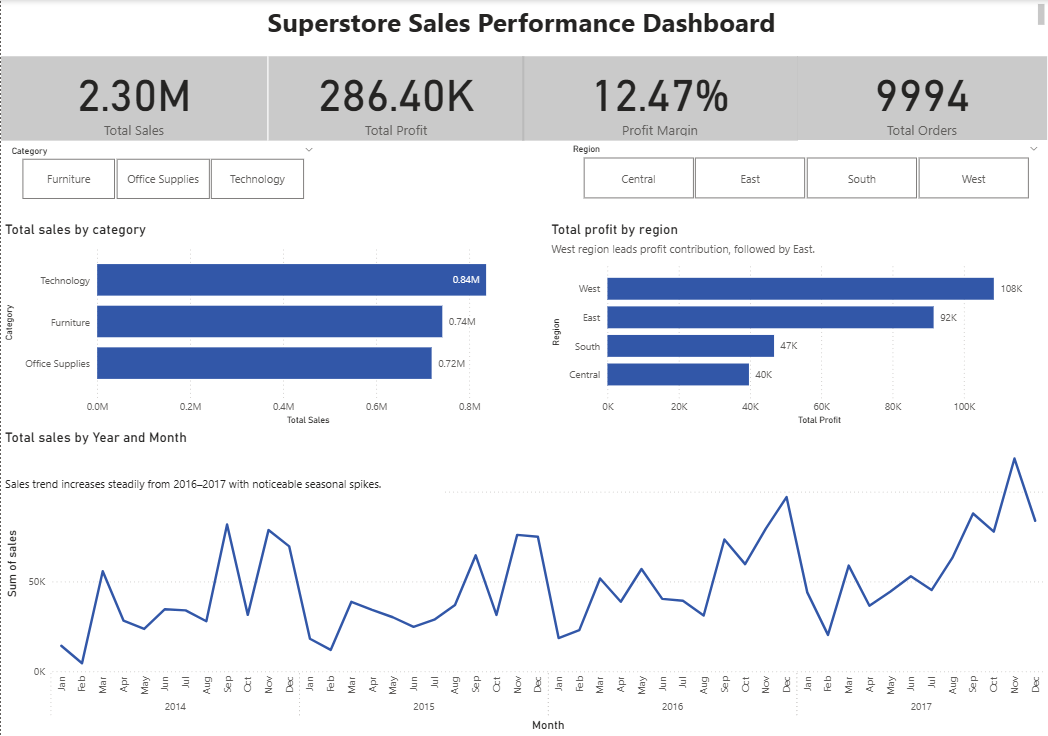

The dashboard page shown, as its layout file describes it:
{"tool":"powerbi","page":{"name":"Sales Overview","canvas":[1280,900],"ordinal":0},"visuals":[{"type":"card","fields":{"Values":["Sum(superstore_db superstore_clean.profit)"]},"box":[327.1,68.6,312.9,102.9],"z":0},{"type":"card","fields":{"Values":["Sum(superstore_db superstore_clean.sales)"]},"box":[0,68.6,325.7,102.9],"z":1000},{"type":"card","fields":{"Values":["CountNonNull(superstore_db superstore_clean.order_id)"]},"box":[974.3,68.6,305.7,102.9],"z":2000},{"type":"clusteredBarChart","title":"Total sales by category","fields":{"Category":["superstore_db superstore_clean.category"],"Y":["Sum(superstore_db superstore_clean.sales)"]},"box":[0,270,652.9,254.3],"z":3000},{"type":"clusteredBarChart","title":"Total profit by region","fields":{"Category":["superstore_db superstore_clean.region"],"Y":["Sum(superstore_db superstore_clean.profit)"]},"box":[668.6,270,611.4,254.3],"z":4000},{"type":"lineChart","title":"Total sales by Year and Month","fields":{"Y":["Sum(superstore_db superstore_clean.sales)"],"Category":["superstore_db superstore_clean.Year","superstore_db superstore_clean.Month"]},"box":[0,524.3,1280,375.7],"z":5000},{"type":"slicer","fields":{"Values":["superstore_db superstore_clean.region"]},"box":[685.7,171.4,594.3,78.6],"z":6000},{"type":"slicer","fields":{"Values":["superstore_db superstore_clean.category"]},"box":[0,172.9,394.3,77.1],"z":7000},{"type":"textbox","box":[0,0,1280.9,48.9],"z":8000},{"type":"card","fields":{"Values":["superstore_db superstore_clean.Profit Margin"]},"box":[637.1,68.6,337.1,102.9],"z":9000},{"type":"textbox","box":[0,577.8,542.6,41.3],"z":10000}]}

Visuals, with their boxes in screenshot pixels (x1, y1, x2, y2), scaled from the page's 1280x900 canvas onto the 1048x736 screenshot:
card - Sum(superstore_db superstore_clean.profit): (left=268, top=56, right=524, bottom=140)
card - Sum(superstore_db superstore_clean.sales): (left=0, top=56, right=267, bottom=140)
card - CountNonNull(superstore_db superstore_clean.order_id): (left=798, top=56, right=1047, bottom=140)
"Total sales by category" clusteredBarChart: (left=0, top=221, right=535, bottom=429)
"Total profit by region" clusteredBarChart: (left=547, top=221, right=1047, bottom=429)
"Total sales by Year and Month" lineChart: (left=0, top=429, right=1047, bottom=735)
slicer - superstore_db superstore_clean.region: (left=561, top=140, right=1047, bottom=204)
slicer - superstore_db superstore_clean.category: (left=0, top=141, right=323, bottom=204)
textbox: (left=0, top=0, right=1047, bottom=40)
card - superstore_db superstore_clean.Profit Margin: (left=522, top=56, right=798, bottom=140)
textbox: (left=0, top=473, right=444, bottom=506)
